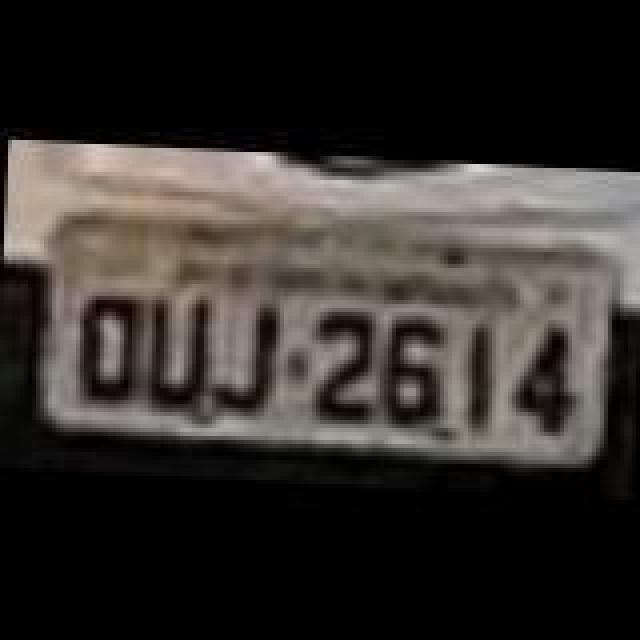1: (454, 314, 506, 438)
2: (306, 306, 390, 430)
4: (510, 312, 586, 440)
6: (374, 310, 450, 434)
J: (200, 294, 288, 418)
O: (74, 288, 150, 408)
U: (136, 288, 216, 416)
